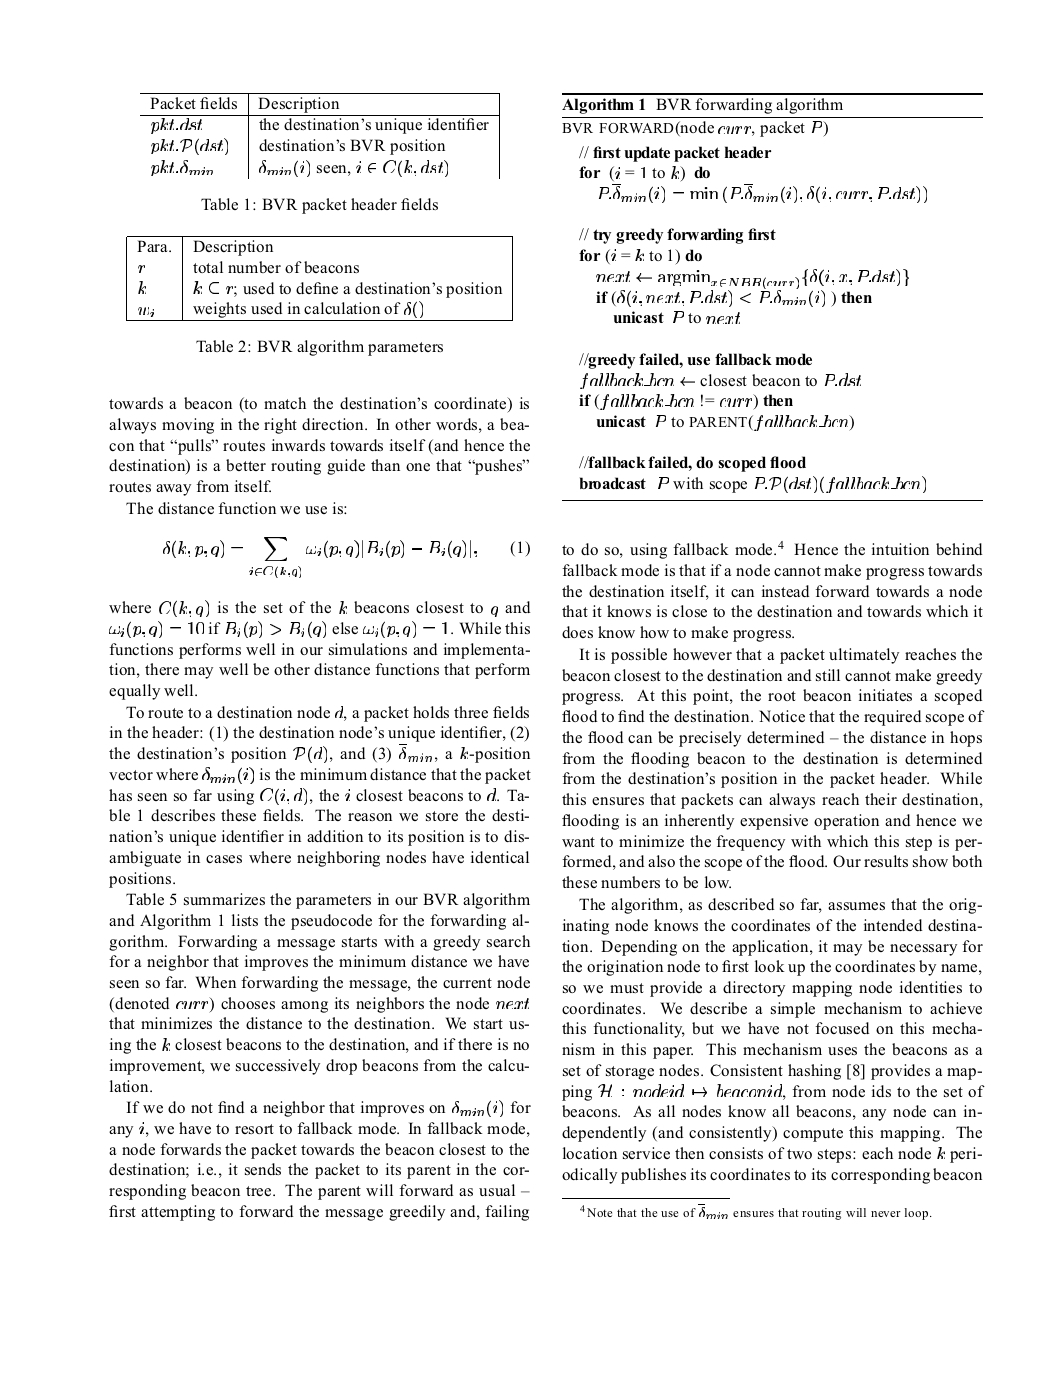Table: (126, 235, 512, 321), (140, 92, 499, 179)
formula: (163, 537, 529, 577)
